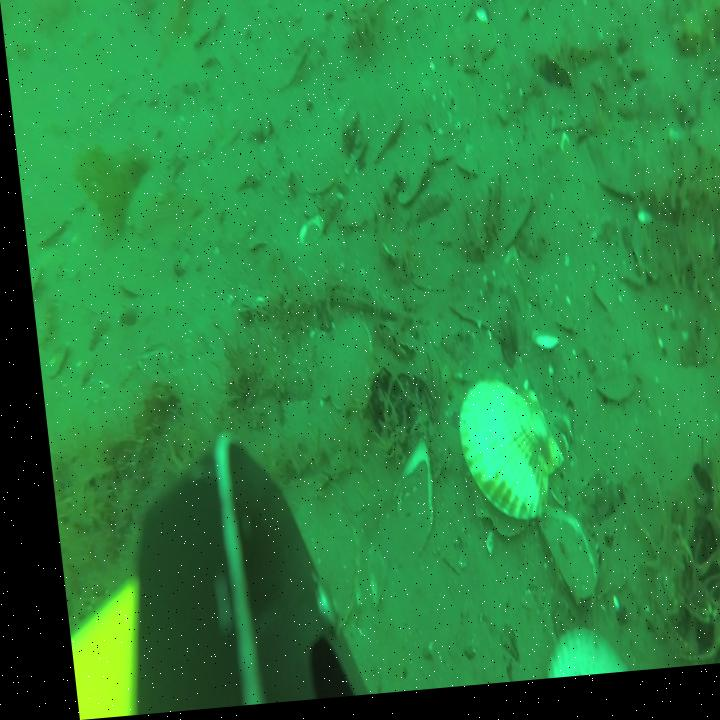scallop: (443, 383, 559, 540), (300, 312, 371, 426), (419, 67, 479, 149), (443, 20, 499, 89), (352, 111, 401, 175), (387, 144, 432, 208), (121, 174, 170, 231), (292, 141, 338, 199), (172, 117, 219, 167), (585, 376, 628, 423), (448, 145, 478, 187), (424, 144, 451, 174)
